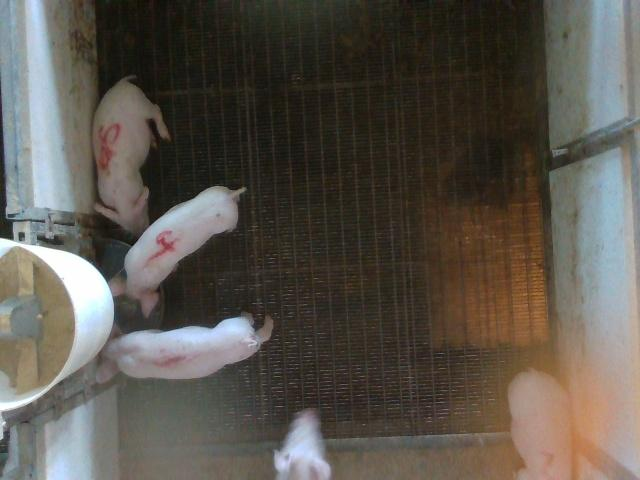pig-4: (109, 186, 243, 317), (98, 314, 272, 379)
pig-5: (92, 76, 170, 236)
